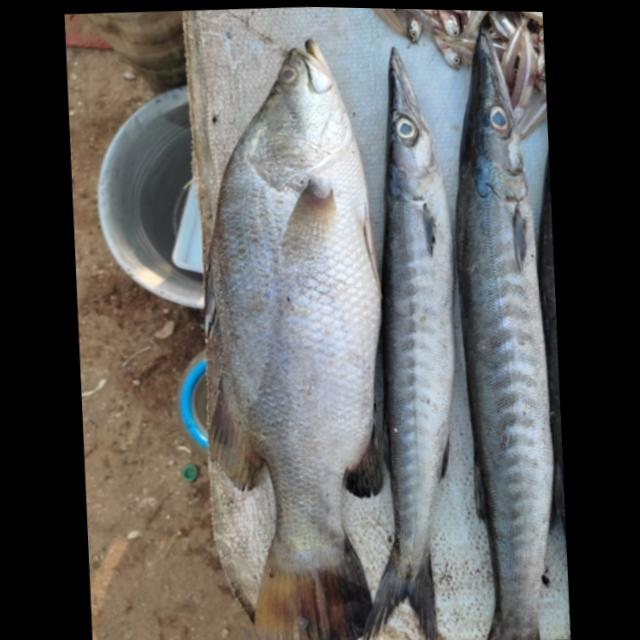Seabass: (184, 32, 406, 640)
